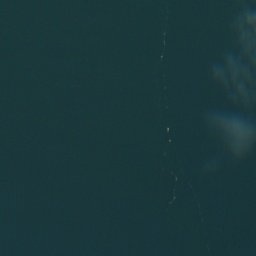Marine Debris: (159, 125, 180, 213), (158, 53, 164, 64)
